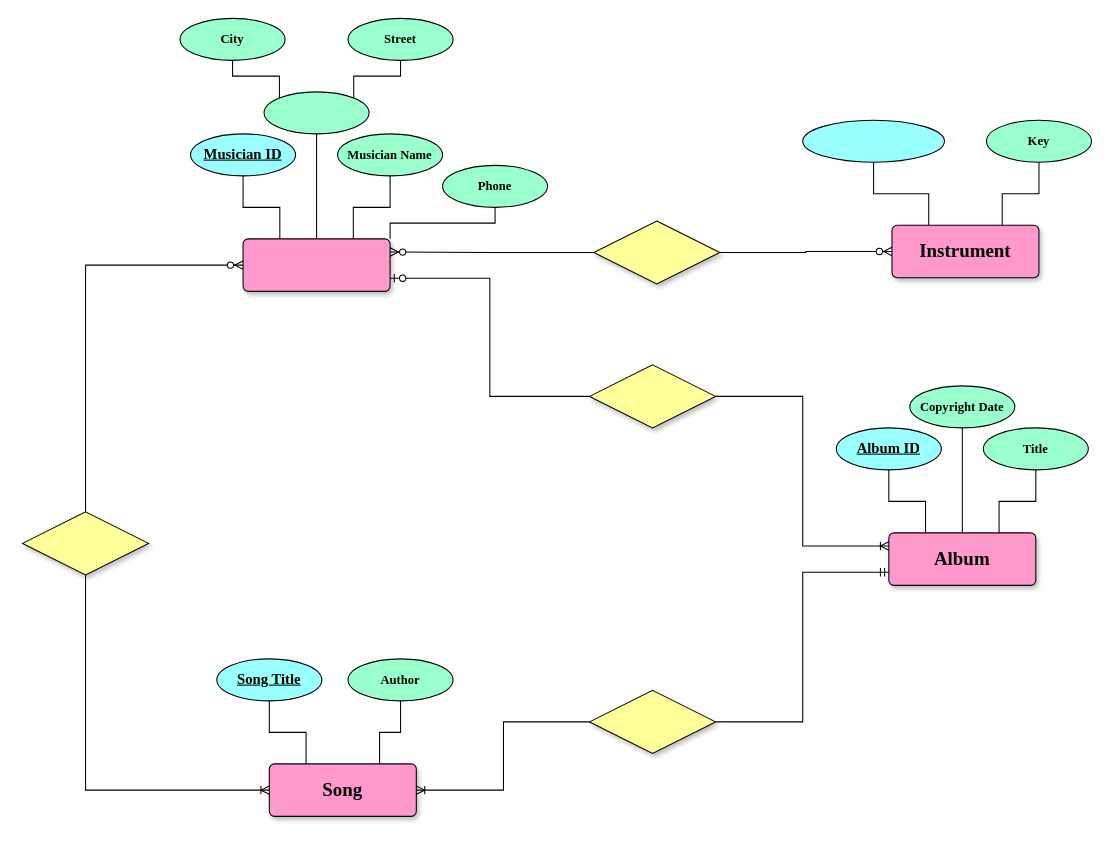
Image size: 1110x842. Some labels were removed from this diagram. The centre of each missing label's shape, as x and y in pixels:
Address: (316,112)
Has: (653,723)
Instrument Name: (873,140)
Musician: (317,266)
Performs: (86,544)
Plays: (657,253)
Produces: (653,397)
